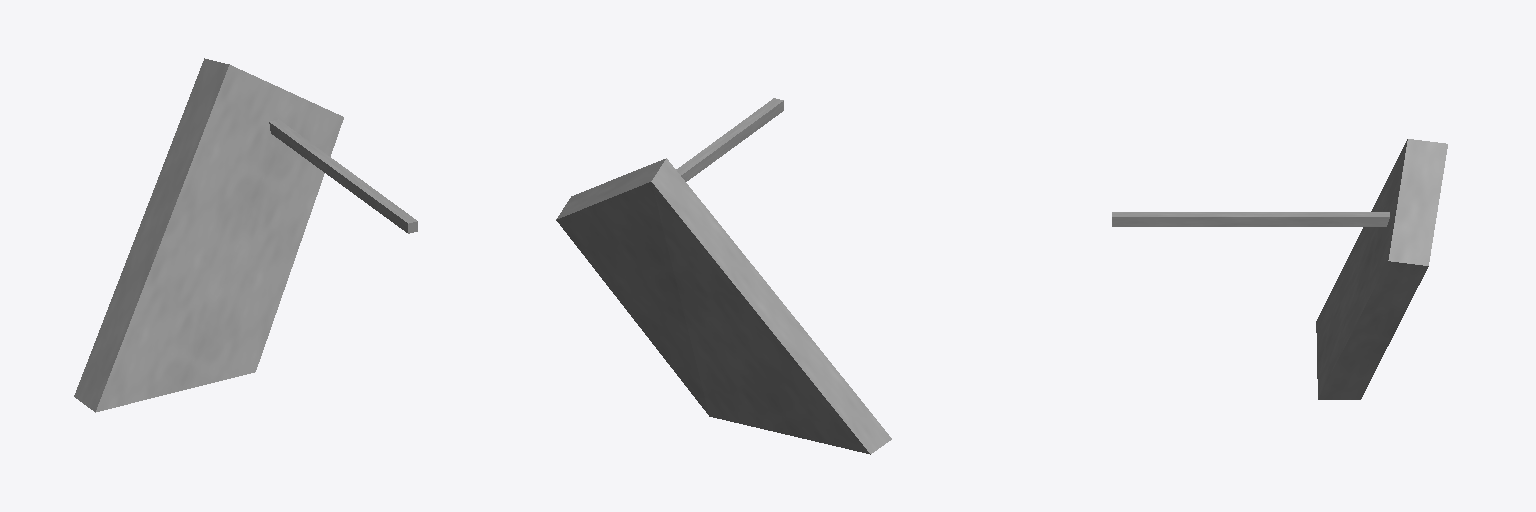
The picture shows the model from 3 angles: view 1: azimuth 30°, elevation 25°; view 2: azimuth 150°, elevation 25°; view 3: azimuth 270°, elevation 25°; orthographic projection.
Size of the model in its own units: 67.1 by 60.98 by 68.6.
1 materials, 1 textured.